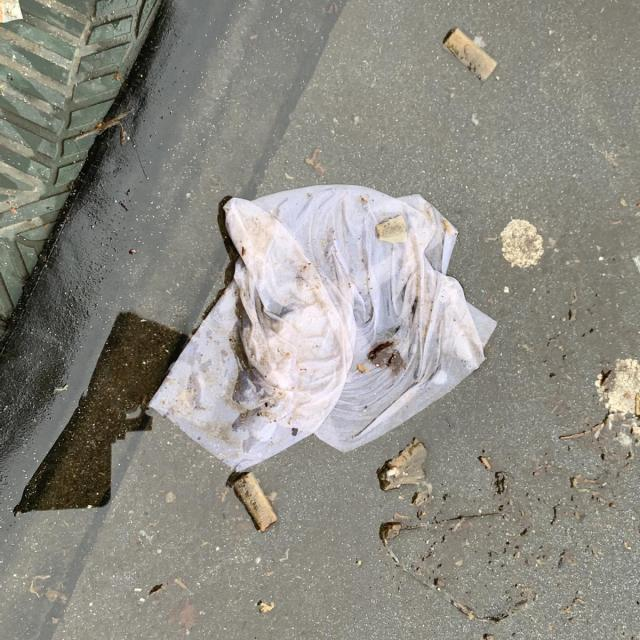Paper: (146, 182, 498, 473)
